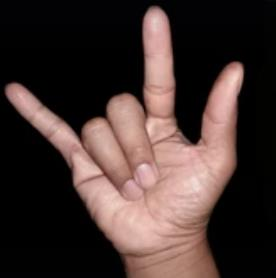back: (5, 4, 244, 252)
